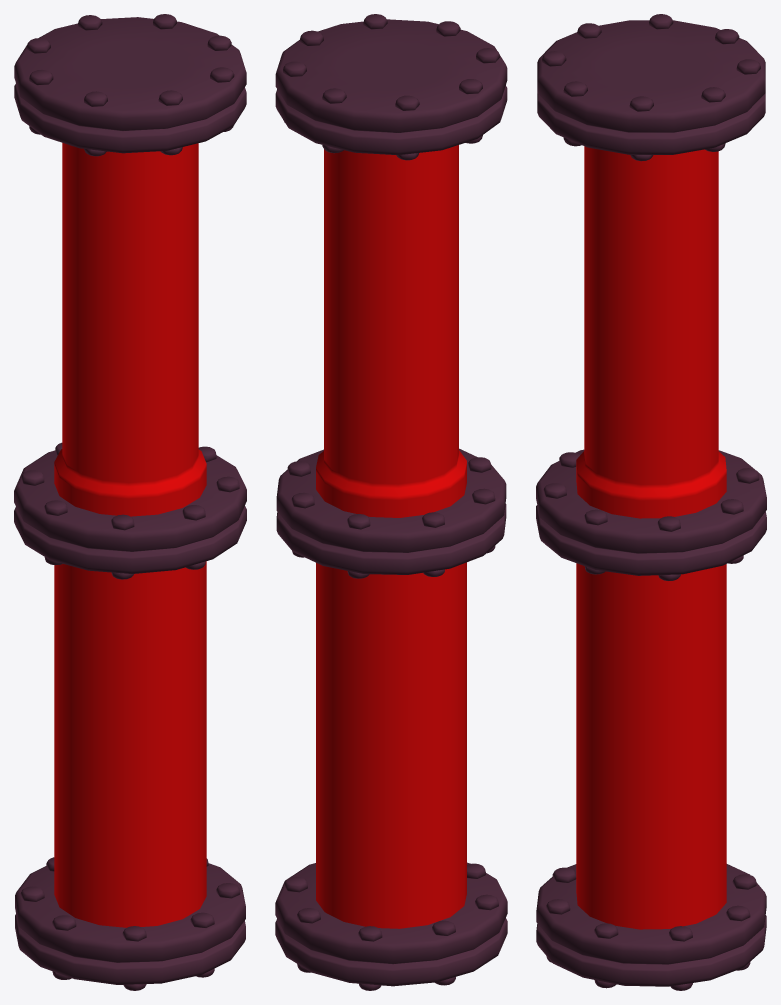
Rendered from LP_M_Pipes_LineMedium.fbx.
3 renders of one model, left to right at view 1: azimuth 30°, elevation 25°; view 2: azimuth 150°, elevation 25°; view 3: azimuth 270°, elevation 25°, orthographic.
Visible parts, largest first — view 1: LP_M_Pipes_LineMedium; view 2: LP_M_Pipes_LineMedium; view 3: LP_M_Pipes_LineMedium.
Part boxes in pixels (<box>): LP_M_Pipes_LineMedium: <box>14,14,246,990</box>; LP_M_Pipes_LineMedium: <box>275,14,507,990</box>; LP_M_Pipes_LineMedium: <box>536,14,766,990</box>.
Bounding box in the file's own units: 48.87 × 207 × 48.87.
